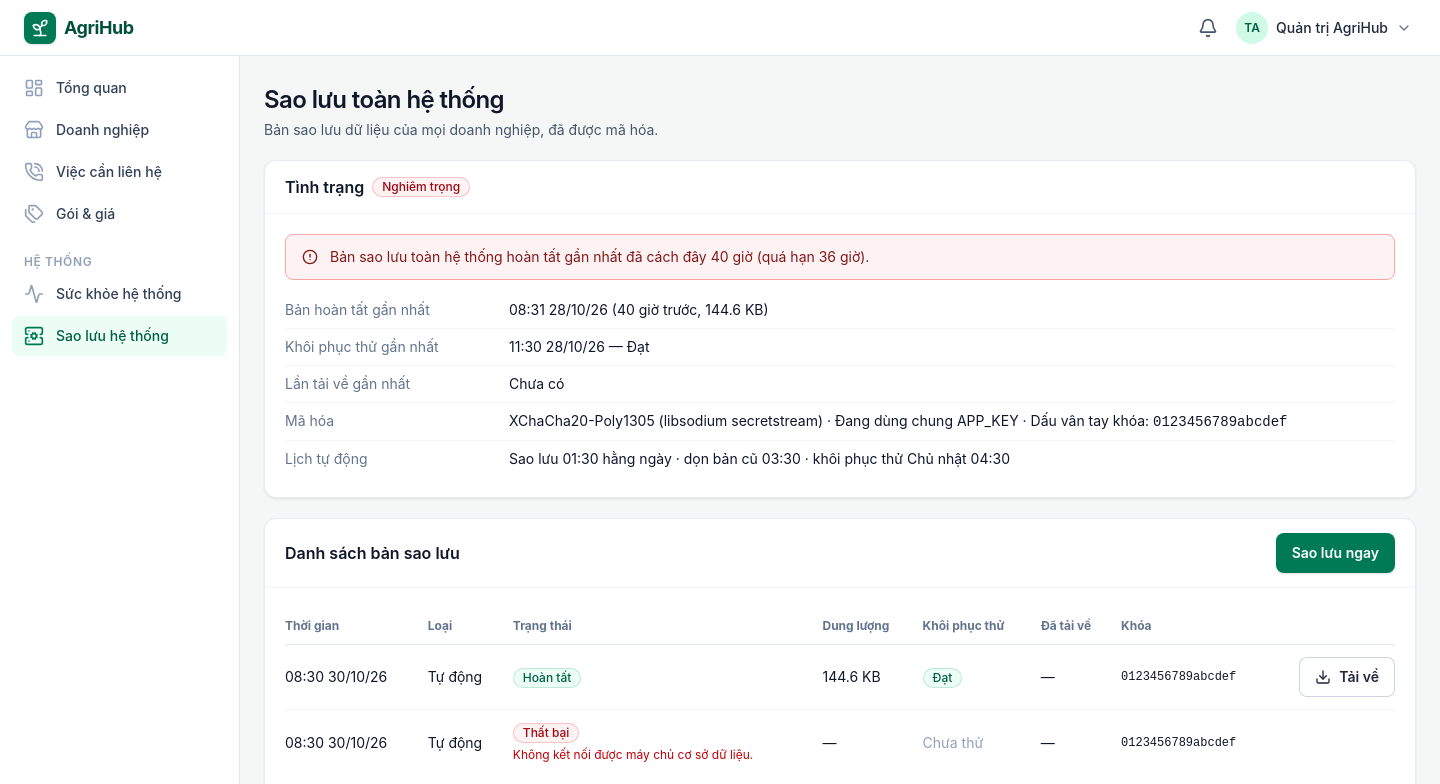
Test: trang sao lưu hệ thống (Super Admin) › "Sao lưu ngay" gửi yêu cầu và báo đã nhận
What coordinates should you click on to do the following:
click the button "Sao lưu ngay"
I would click on:
 (1335, 553)
Its box is [1276,533,1395,573].
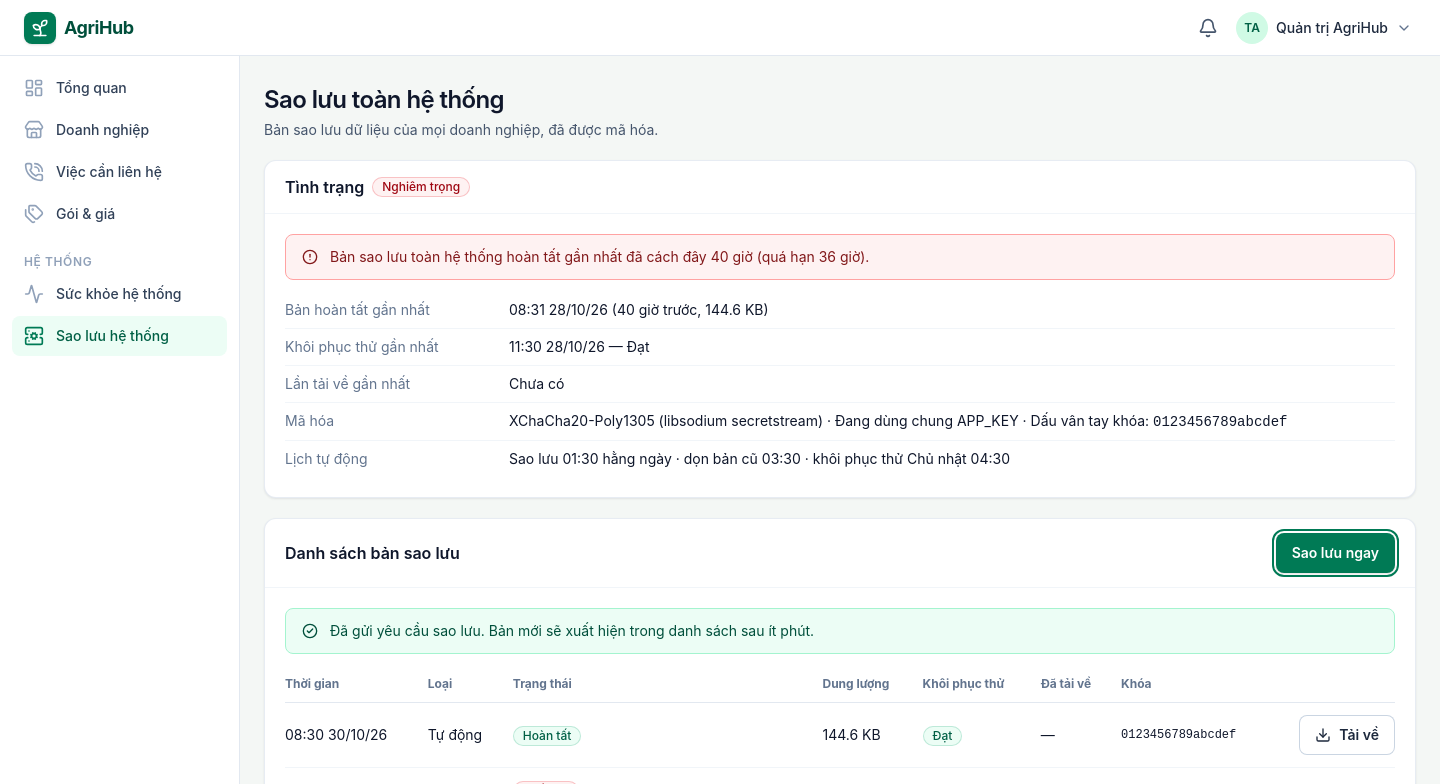
Expected: the text "Đã gửi yêu cầu sao lưu" is shown, [330,622,814,639]
